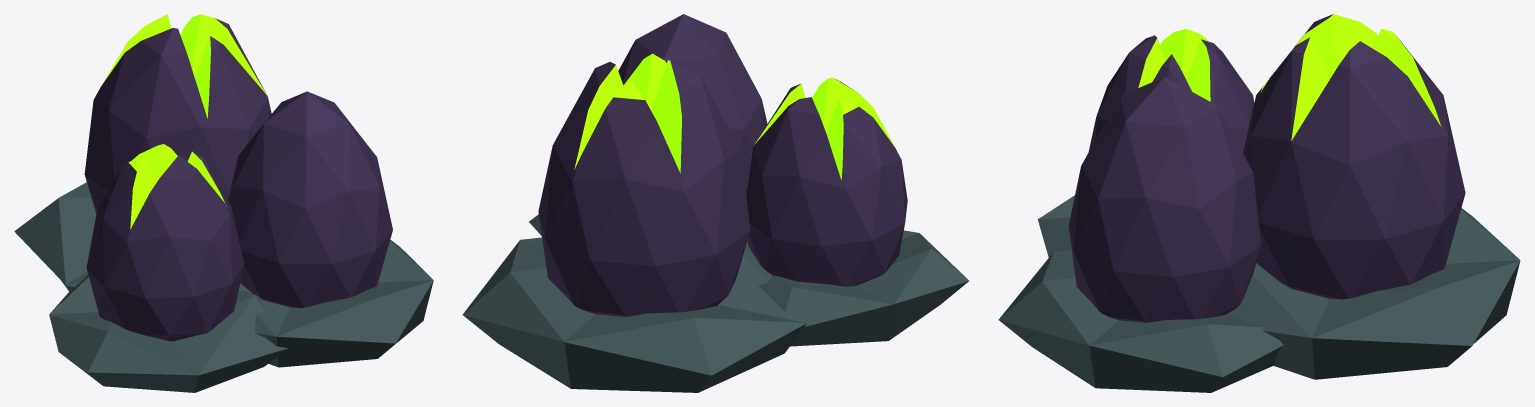
Rendered from LPSciFiCharacter_AlienEggC.fbx.
3 views of the same model, side by side, from view 1: azimuth 30°, elevation 25°; view 2: azimuth 150°, elevation 25°; view 3: azimuth 270°, elevation 25° (orthographic). The views are drawn at different scales.
Visible parts, largest first — view 1: AlienEggC; view 2: AlienEggC; view 3: AlienEggC.
Part boxes in pixels (box(x1,y1,x2,y2)): AlienEggC: box(14, 14, 433, 392); AlienEggC: box(462, 14, 968, 392); AlienEggC: box(998, 14, 1520, 392).
Size of the model in its own units: 67.19 by 45.08 by 73.13.
